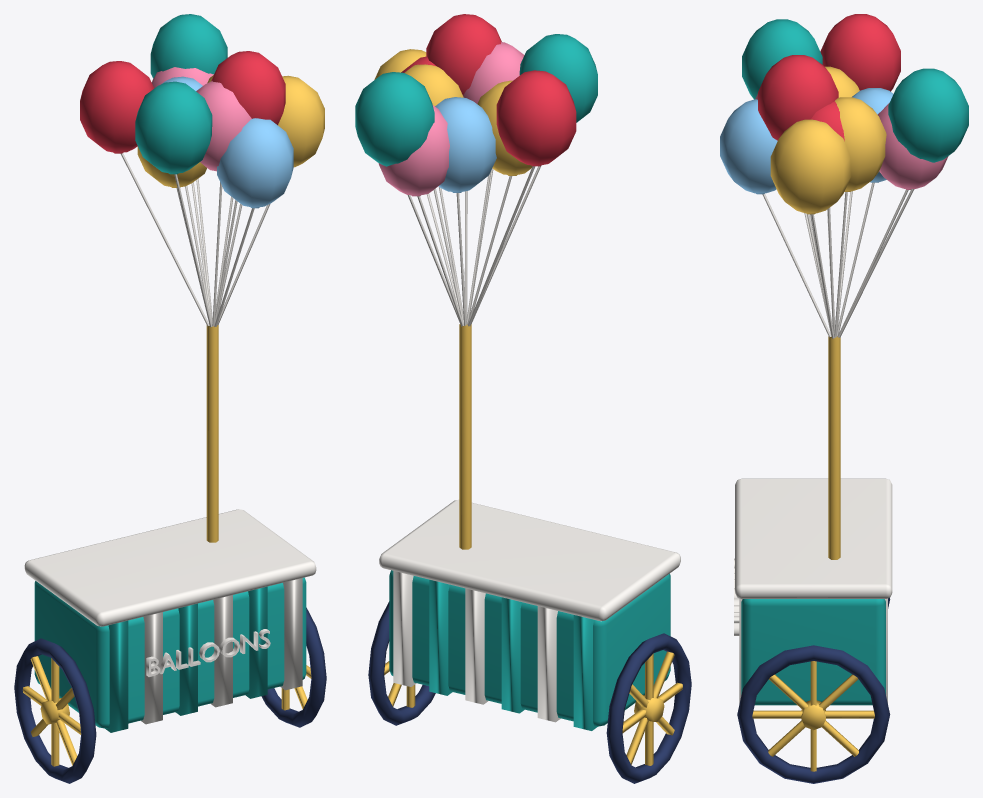
Rendered from sky_balloon_cart.glb.
3 views of the same model, side by side, from view 1: azimuth 30°, elevation 25°; view 2: azimuth 150°, elevation 25°; view 3: azimuth 270°, elevation 25° (orthographic). The views are drawn at different scales.
Visible parts, largest first — view 1: BalloonCart; view 2: BalloonCart; view 3: BalloonCart.
Part boxes in pixels (x1,y1,x2,y2): BalloonCart: [14, 14, 326, 783]; BalloonCart: [355, 14, 691, 783]; BalloonCart: [720, 14, 968, 783].
Bounding box in the file's own units: 1.55 × 3.75 × 1.2.
